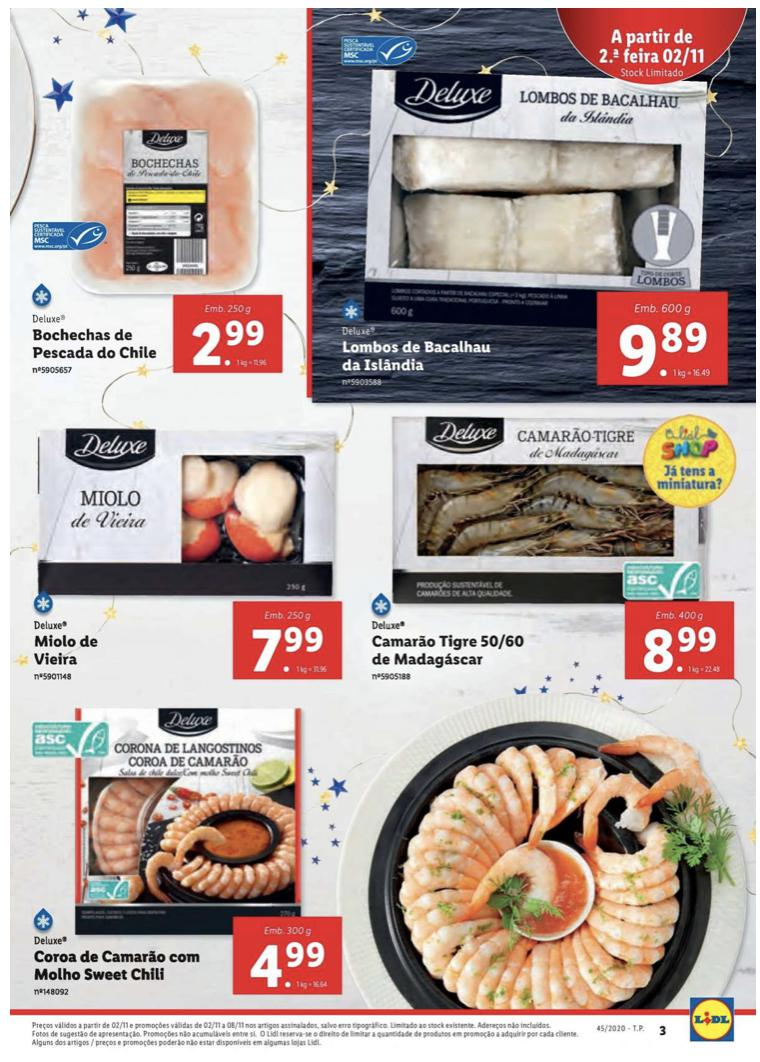name: (30, 945, 201, 985), (369, 631, 528, 674), (340, 337, 501, 377), (28, 324, 164, 365), (27, 630, 101, 670)
price: (614, 319, 713, 378), (244, 939, 332, 993), (189, 316, 274, 368), (636, 623, 722, 674), (244, 620, 324, 673)
product: (317, 27, 740, 397), (359, 401, 756, 694), (14, 699, 359, 1003), (17, 414, 359, 694), (17, 60, 298, 391)
